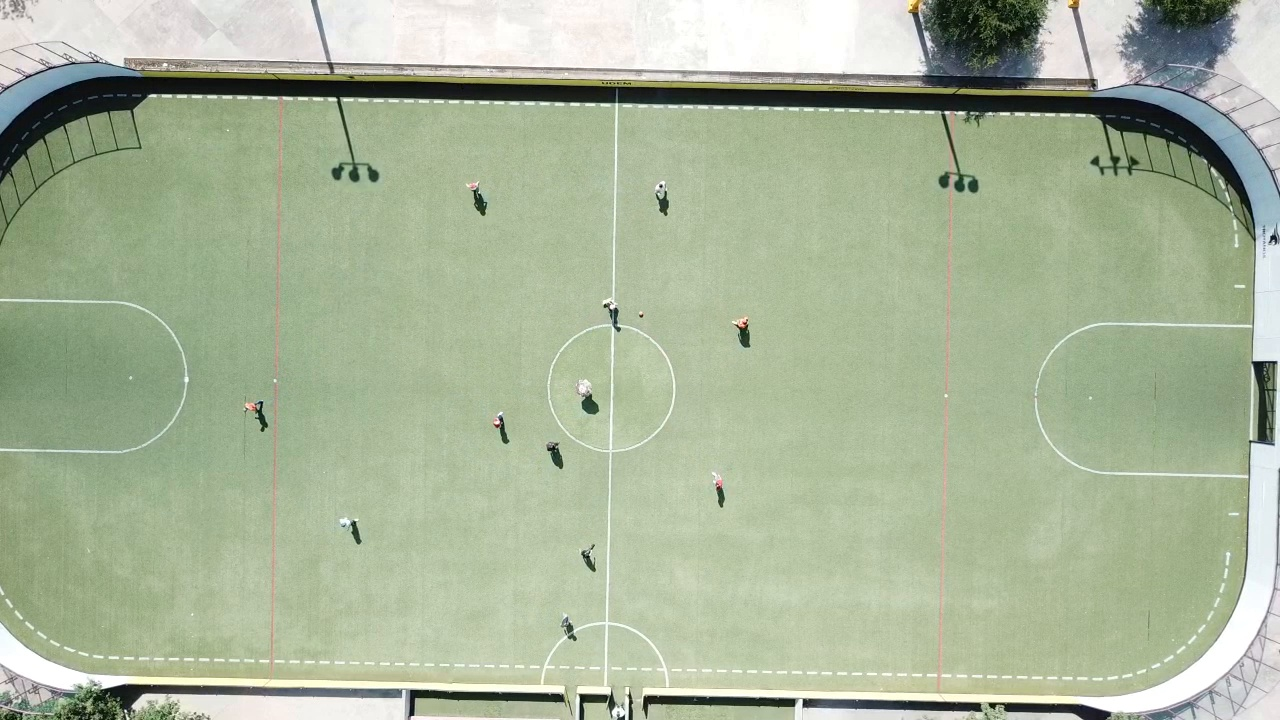ball: (638, 312, 644, 317)
player: (581, 543, 596, 565), (576, 378, 592, 398), (561, 613, 574, 637), (731, 316, 749, 331), (246, 399, 265, 413), (654, 180, 667, 200), (711, 471, 723, 492), (602, 294, 616, 311), (466, 181, 482, 194), (493, 413, 505, 429), (546, 441, 560, 454), (339, 517, 351, 530)
